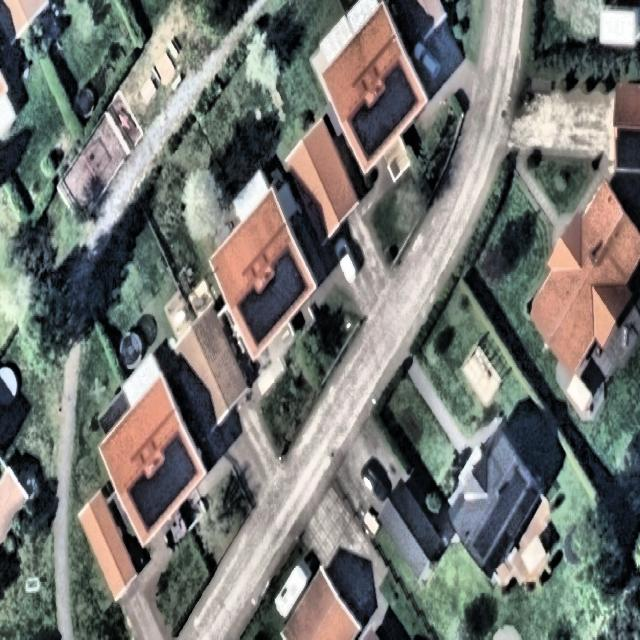roof_pv: (237, 245, 309, 348), (348, 61, 421, 161), (128, 432, 197, 535)
